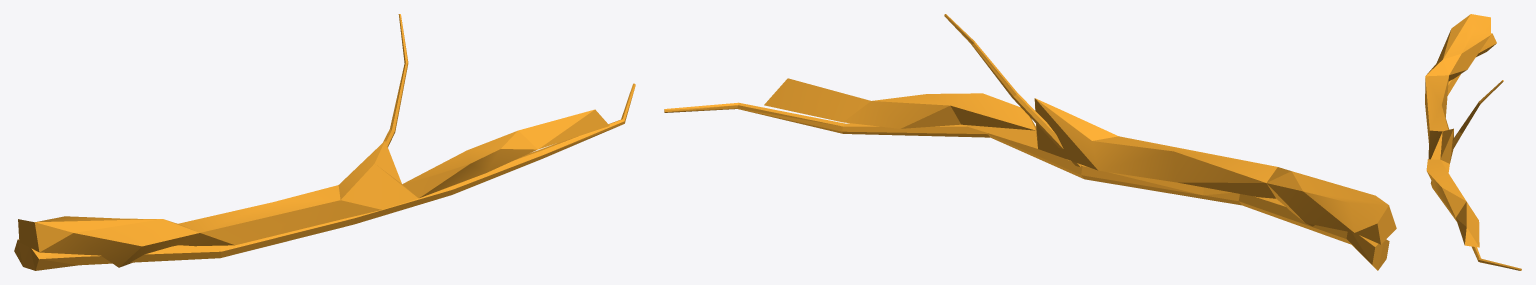
Rendered from SM_Tree_Birch_Branch_A_Snow.fbx.
3 renders of one model, left to right at view 1: azimuth 30°, elevation 25°; view 2: azimuth 150°, elevation 25°; view 3: azimuth 270°, elevation 25°, orthographic. The views are drawn at different scales.
Parts seen in each view (by area): view 1: tree-birch-branch-a-snow; view 2: tree-birch-branch-a-snow; view 3: tree-birch-branch-a-snow.
Part boxes in pixels (x1,y1,x2,y2): tree-birch-branch-a-snow: [14, 14, 635, 270]; tree-birch-branch-a-snow: [664, 14, 1396, 270]; tree-birch-branch-a-snow: [1425, 14, 1521, 270].
Size of the model in its own units: 2.18 by 0.5196 by 0.394.
